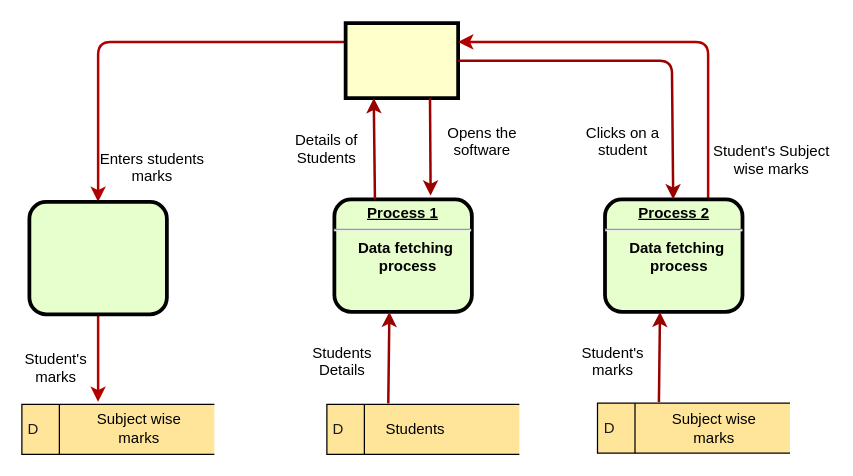
This 853x476 diagram has some shape labels left out. Each missing label, with the centre of its shape:
"Process 3 Data Upload process" belongs at point 97,257.
"Teacher" belongs at point 401,60.
